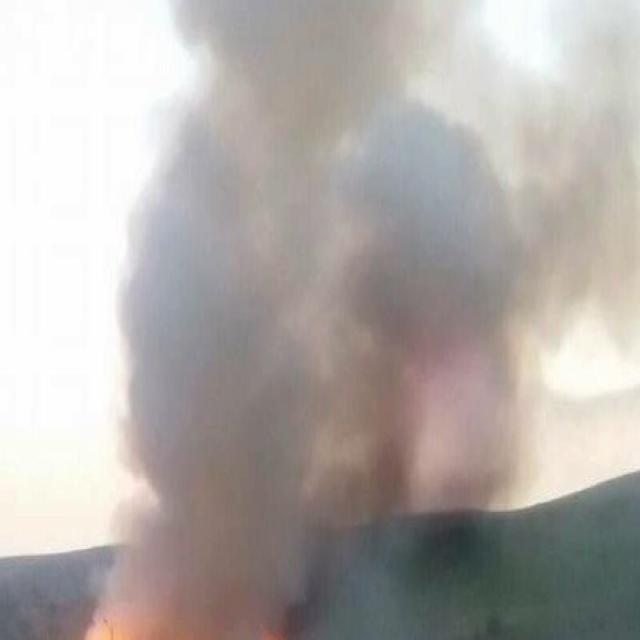Smoke: (71, 0, 640, 637)
